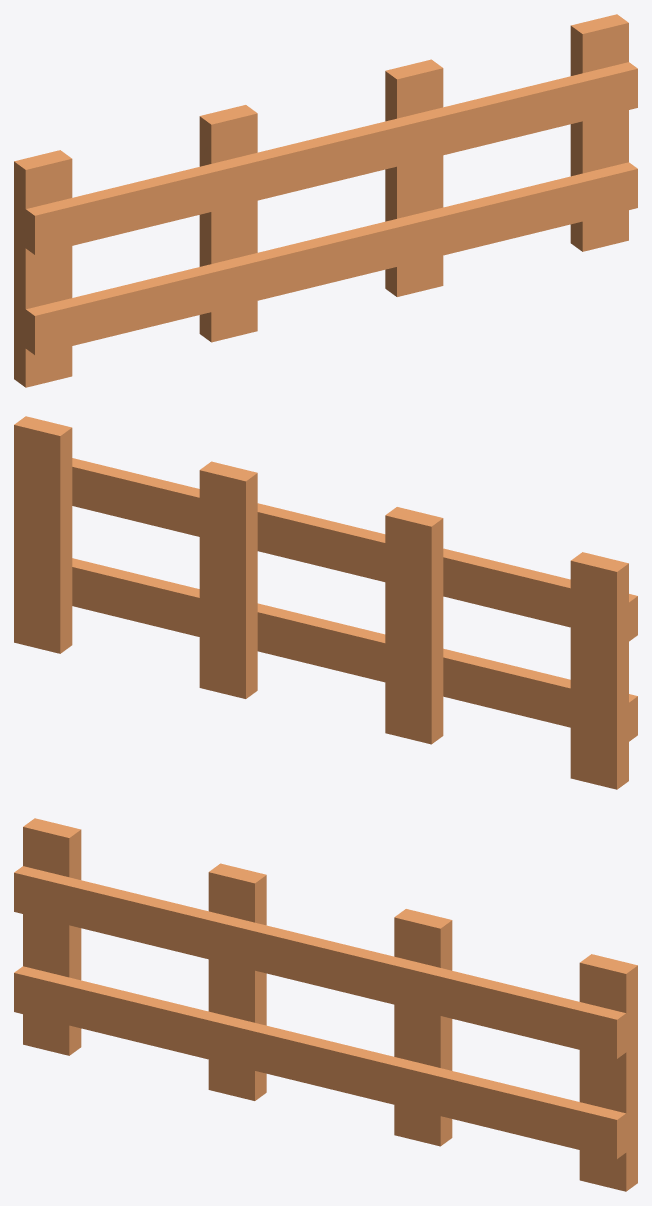
Rendered from fence_double.fbx.
3 views of the same model, one above another, from view 1: azimuth 30°, elevation 25°; view 2: azimuth 150°, elevation 25°; view 3: azimuth 330°, elevation 25° (orthographic).
Visible parts, largest first — view 1: fence_double; view 2: fence_double; view 3: fence_double.
Part boxes in pixels (x1=…): fence_double: x1=14, y1=14, x2=637, y2=387; fence_double: x1=14, y1=416, x2=637, y2=789; fence_double: x1=14, y1=818, x2=637, y2=1191.
Size of the model in its own units: 10 by 3.45 by 0.5986.
